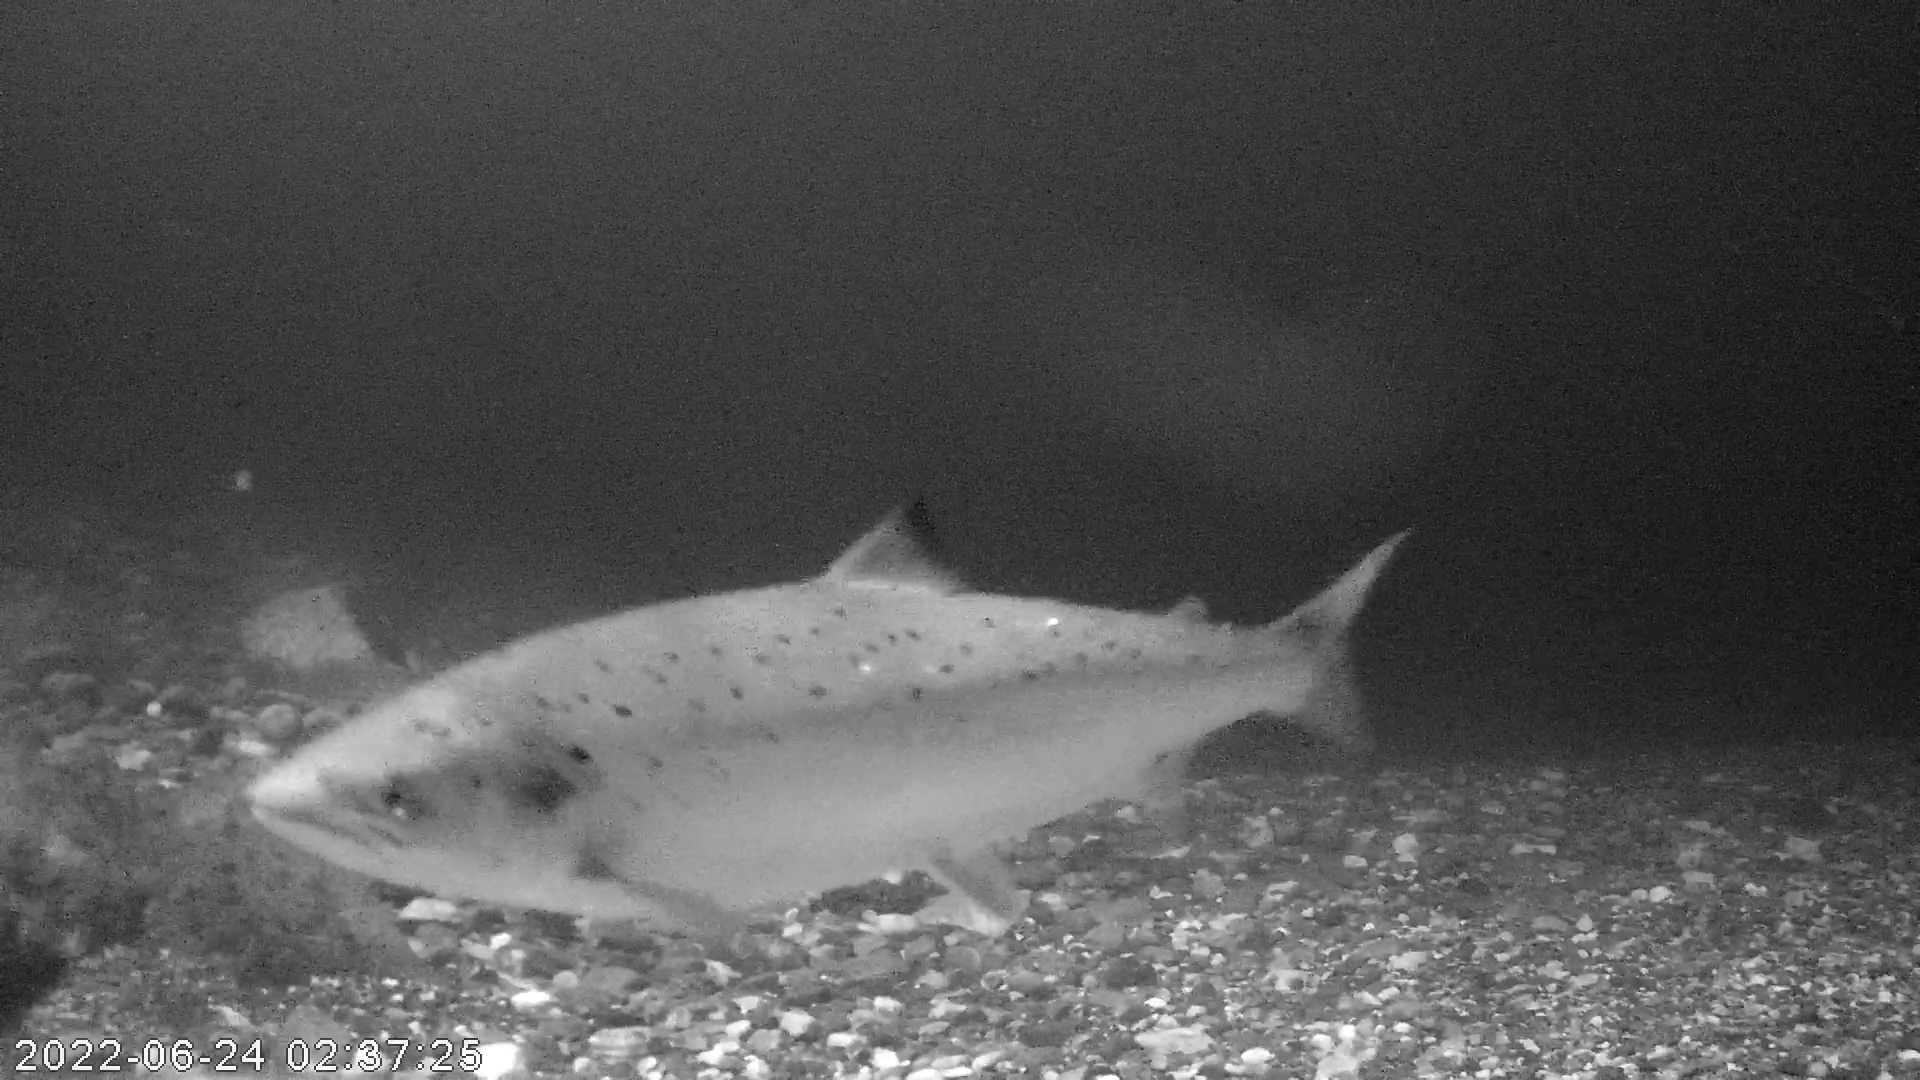salmon: (244, 488, 1416, 949)
